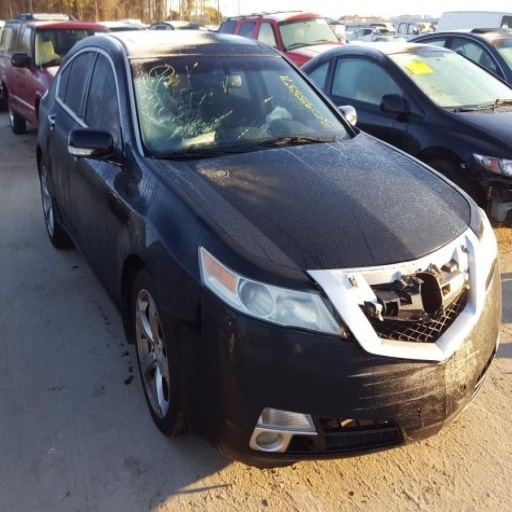scratch: (225, 314, 235, 364)
